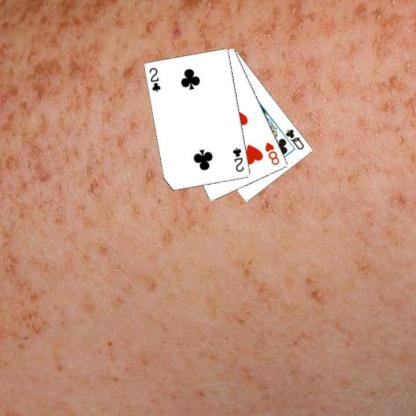2C: (147, 65, 162, 93), (230, 146, 245, 173)
8H: (263, 140, 281, 166)
QC: (283, 126, 306, 152)
